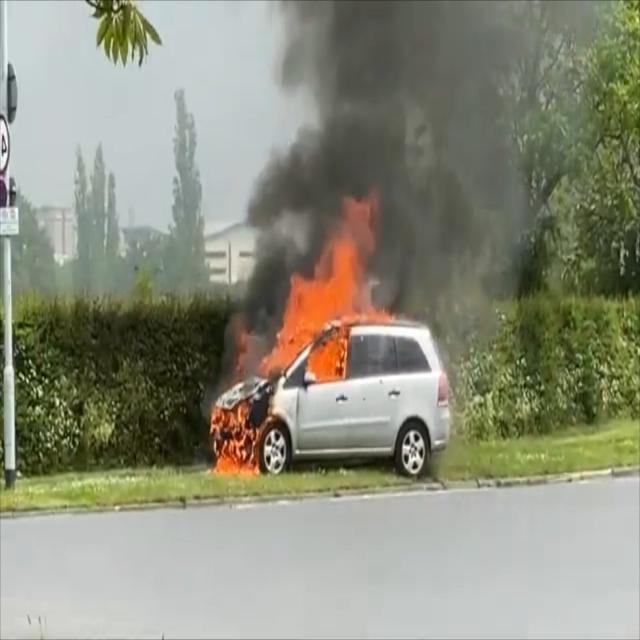fire: (210, 200, 382, 482)
